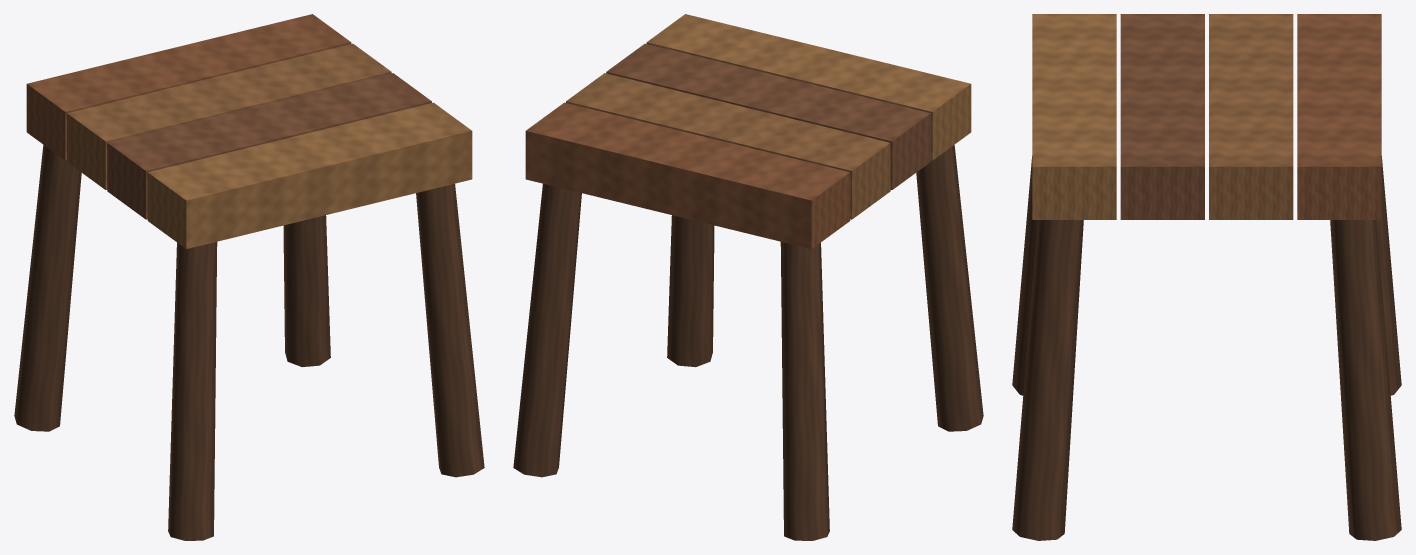
The model's file is stool.glb.
3 views of the same model, side by side, from view 1: azimuth 30°, elevation 25°; view 2: azimuth 150°, elevation 25°; view 3: azimuth 270°, elevation 25° (orthographic). The views are drawn at different scales.
Visible parts, largest first — view 1: stool; view 2: stool; view 3: stool.
Boxes of the visible parts, x1,y1,x2,y2 form: stool: (14,14,484,540); stool: (513,14,983,540); stool: (1012,14,1401,540).
Bounding box in the file's own units: 0.4416 × 0.46 × 0.4366.
Materials: 1 (1 with a texture image).
